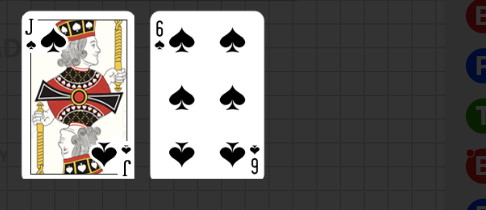6S: (154, 19, 167, 53), (248, 143, 260, 176)
JS: (89, 130, 133, 177), (22, 10, 66, 56)
